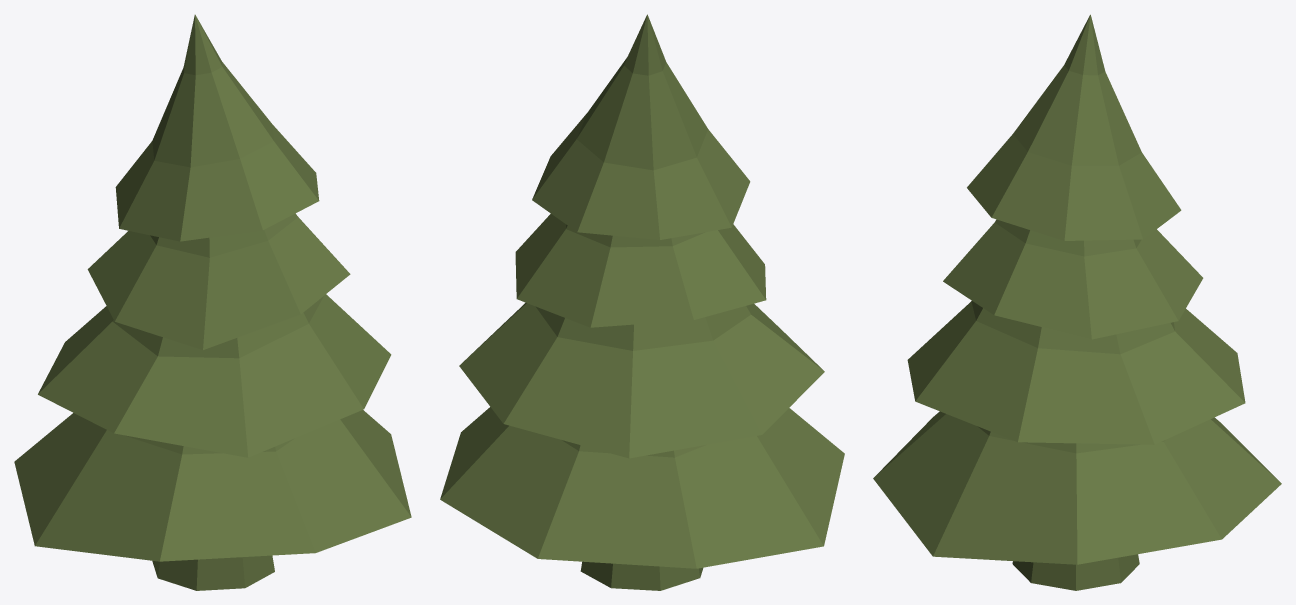
File: tree.fbx
3 views of the same model, side by side, from view 1: azimuth 30°, elevation 25°; view 2: azimuth 150°, elevation 25°; view 3: azimuth 270°, elevation 25° (orthographic). The views are drawn at different scales.
Visible parts, largest first — view 1: FirTree; view 2: FirTree; view 3: FirTree.
Part boxes in pixels (left/top/right/bottom): FirTree: left=14, top=14, right=411, bottom=590; FirTree: left=440, top=14, right=844, bottom=590; FirTree: left=873, top=14, right=1281, bottom=590.
Bounding box in the file's own units: 608 × 894 × 608.
